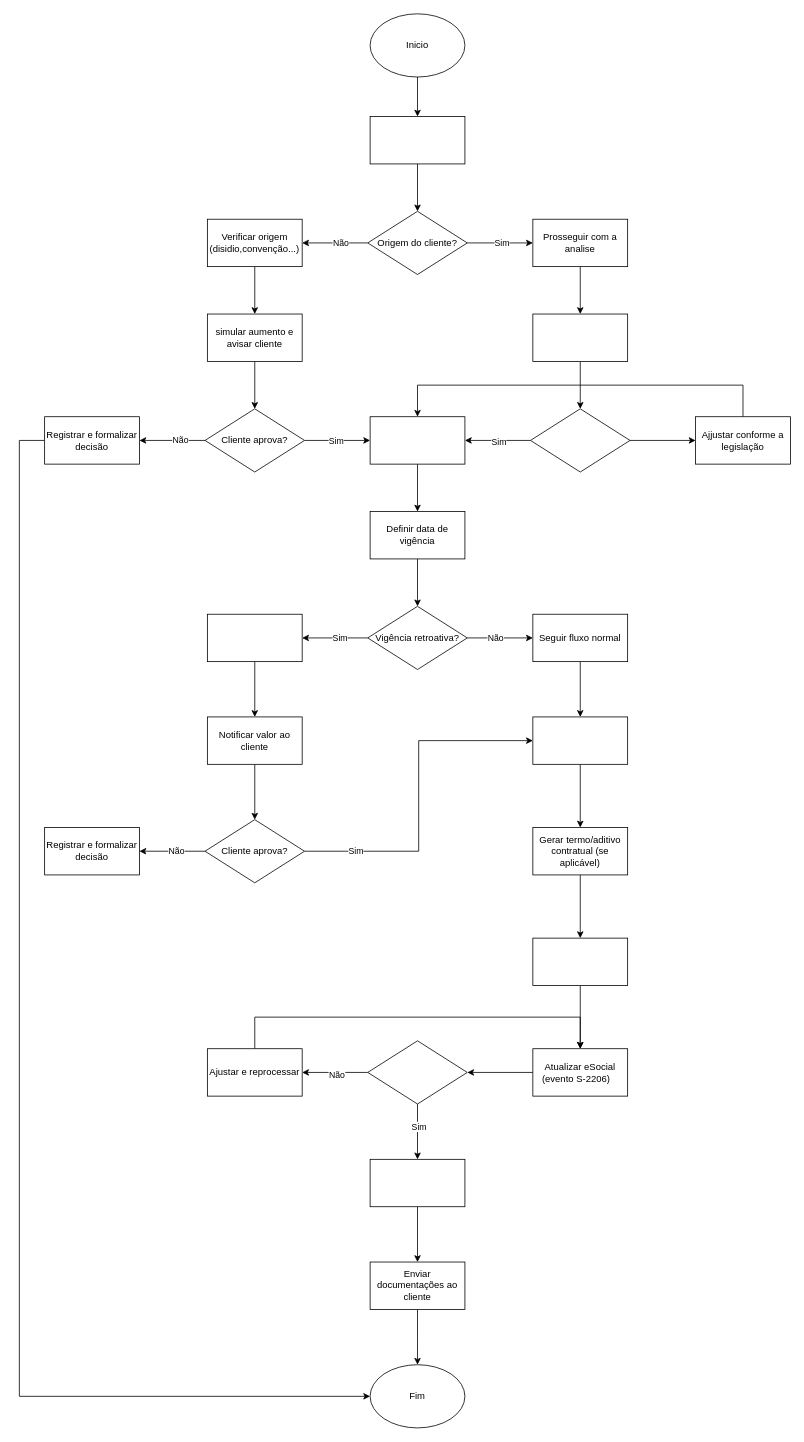
This 804x1442 diagram has some shape labels left out. Each missing label, with the centre of its shape:
Alteração esta dentro da legislação da CCT?: (580,440)
Atualizar informações no sistema: (580,740)
Calcular diferenças a pagar: (254,637)
Coletar assinatura do colaborador: (580,961)
Processou corretamente/: (417,1072)
Registrar alteração no controle interno: (417,1183)
Registrar mudanças e realizar alterações: (417,440)
Solicitação recebida: (417,140)
Verificar dados do colaborador: (580,337)
